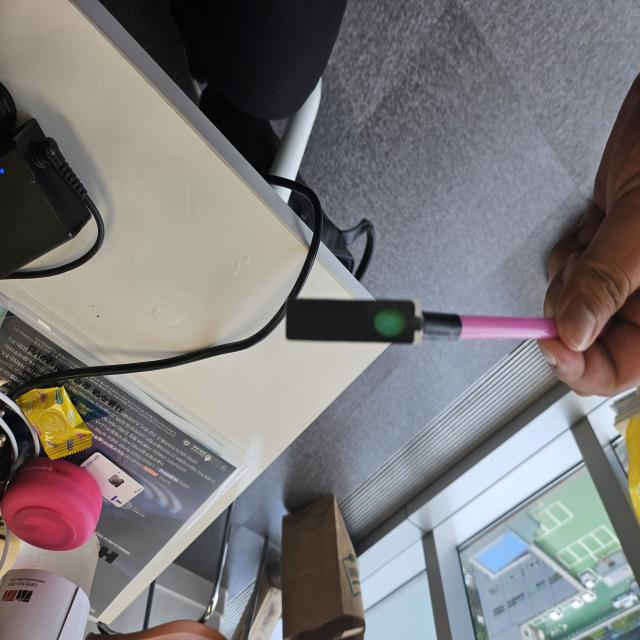traffic light: (285, 299, 425, 347)
